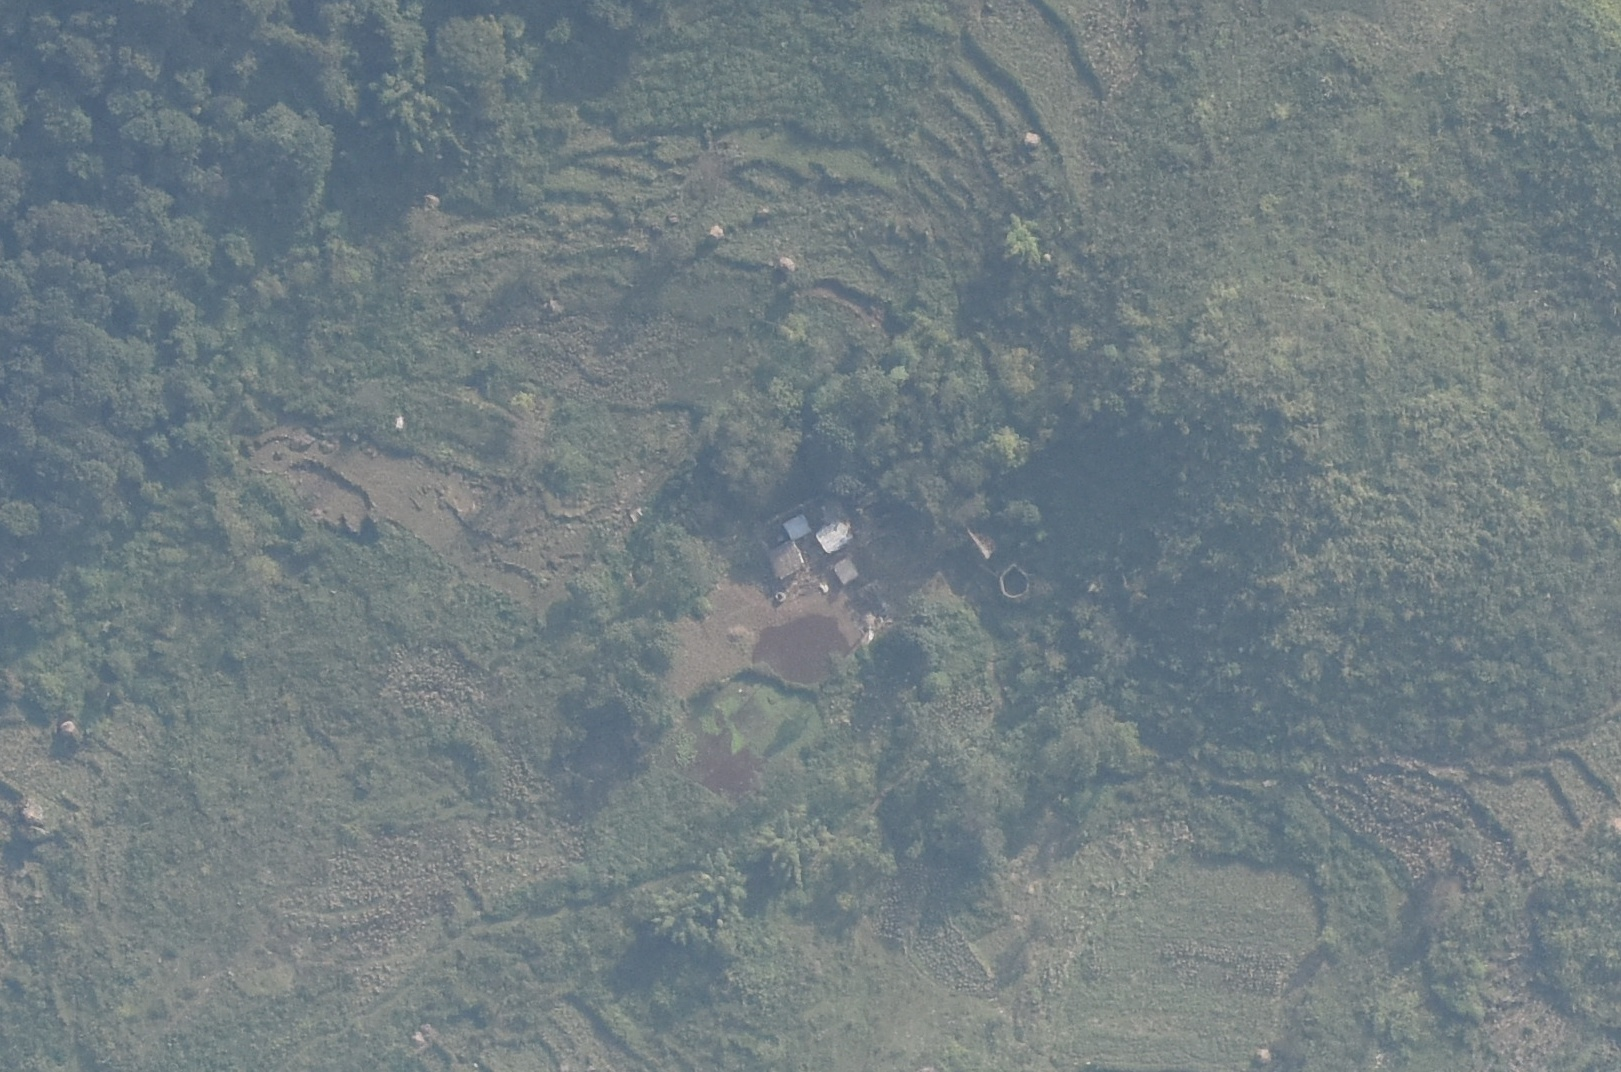building: (766, 540, 808, 579), (817, 516, 857, 554), (781, 513, 813, 540), (831, 558, 861, 584)
well: (998, 561, 1032, 599)
